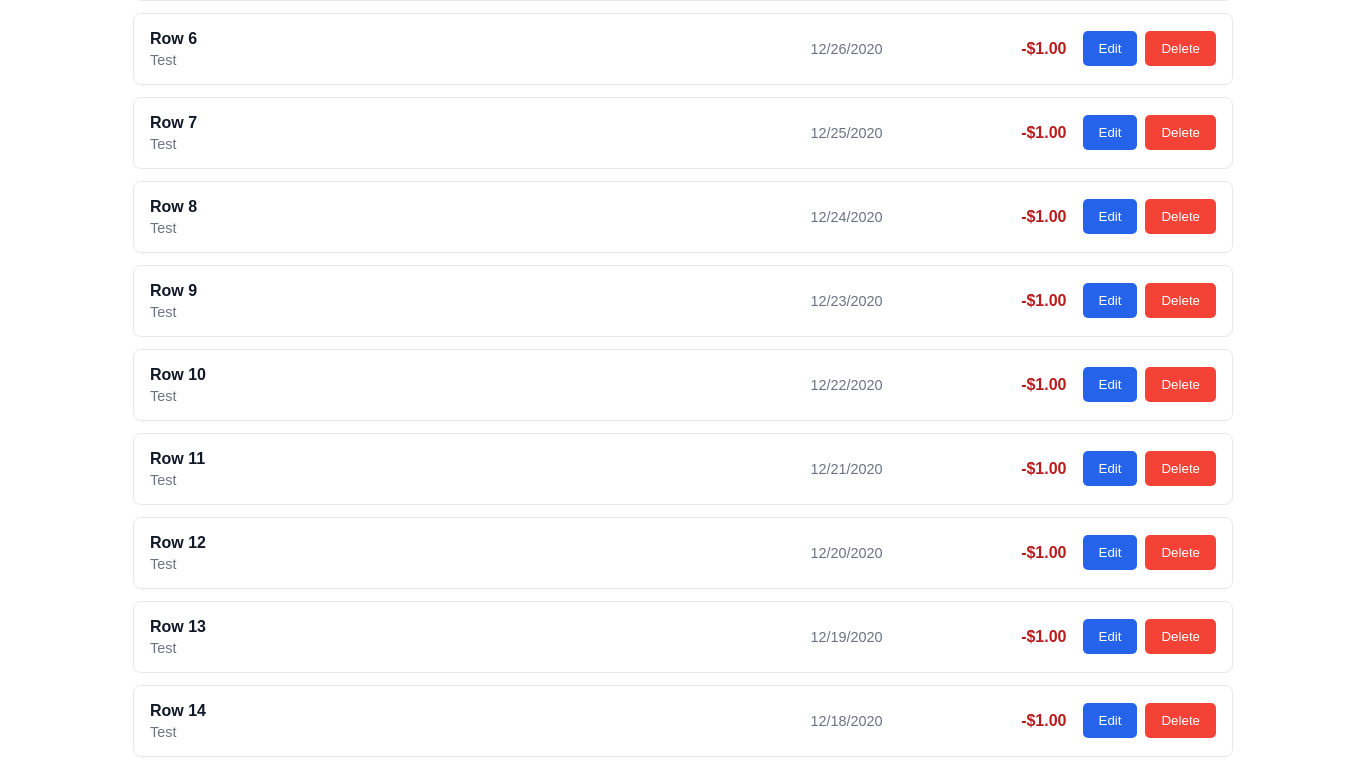
Scenario: the transaction list › does not skip a row after a transaction is deleted
Later steps or results of the test are not shown.
(page scrolled)
Click the button "Delete" in the row of "12/22/2020". click: (1181, 385)
box: left=1146, top=367, right=1216, bottom=402
(page scrolled)
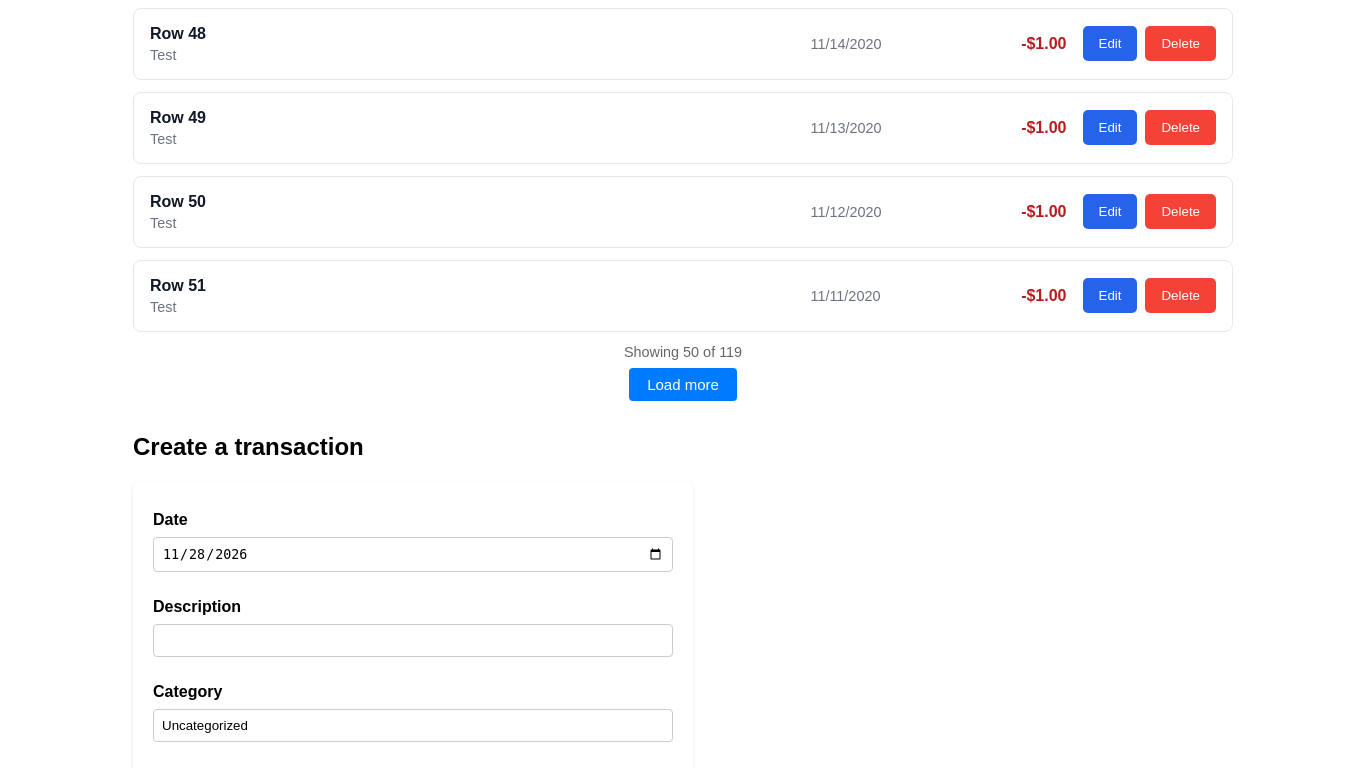
Check: the text "Showing 50 of 119" is shown, box left=624, top=344, right=742, bottom=360
